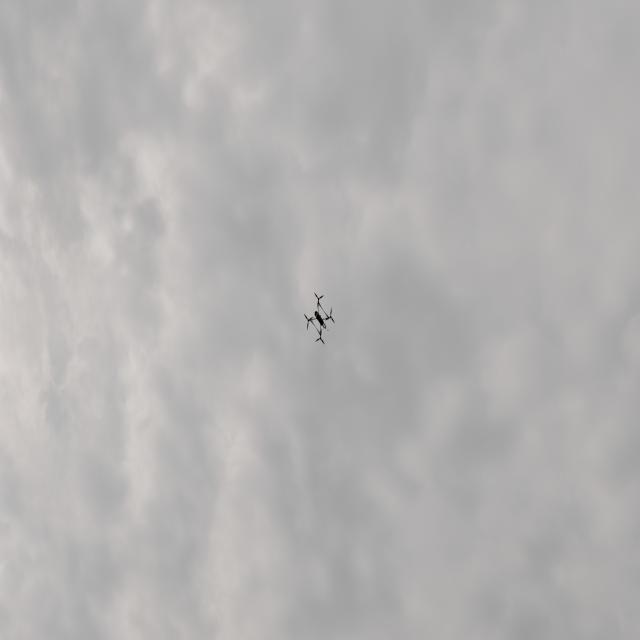drone: (300, 284, 339, 353)
